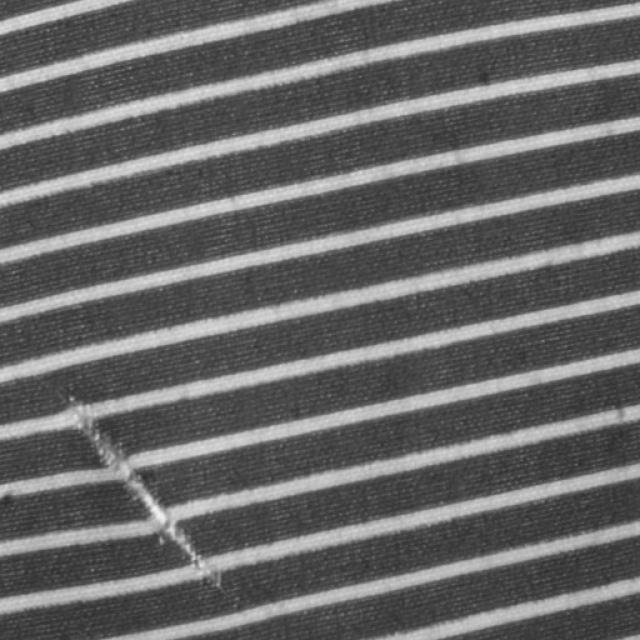Hole-Defect: (60, 385, 234, 603)
